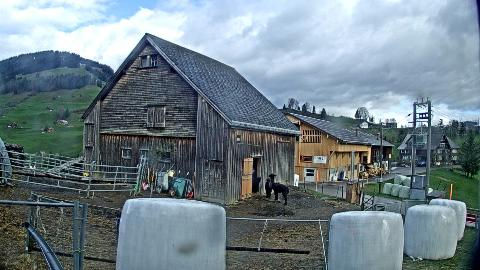car: (416, 161, 426, 167)
sheep: (269, 172, 290, 206), (251, 177, 261, 193), (266, 178, 272, 198)
